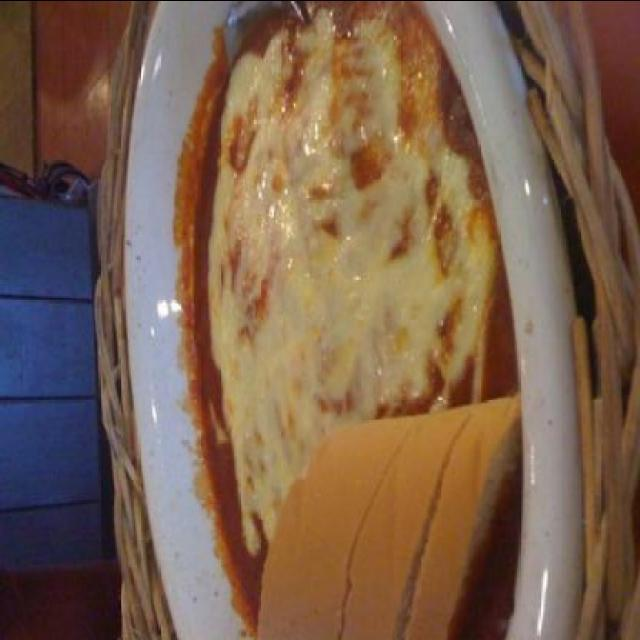Lasagna: (207, 7, 455, 410)
